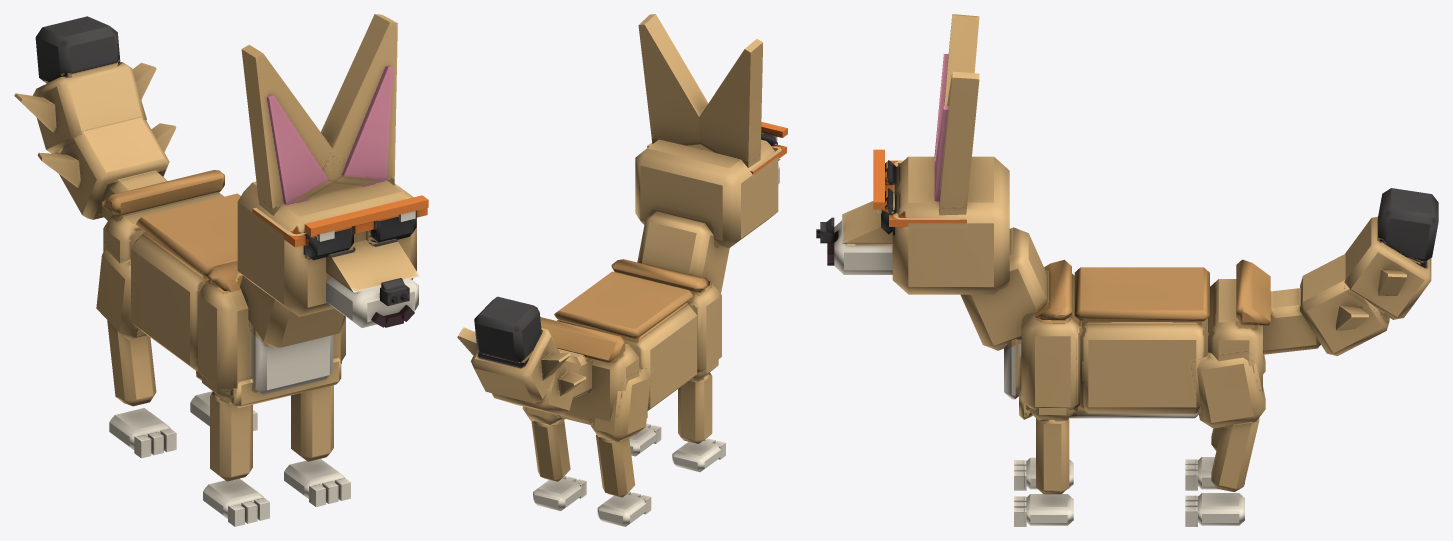
Rendered from FennecLunettes_Rig.fbx.
3 views of the same model, side by side, from view 1: azimuth 30°, elevation 25°; view 2: azimuth 150°, elevation 25°; view 3: azimuth 270°, elevation 25° (orthographic). The views are drawn at different scales.
Parts seen in each view (by area): view 1: Body, Head, Tail, EarR, EarL, LegBR, LegFR, LegFL, LegBL; view 2: Body, Head, Tail, EarL, LegBR, EarR, LegBL, LegFR, LegFL; view 3: Body, Head, Tail, LegBL, LegFL, EarL, EarR, LegBR, LegFR.
Boxes of the visible parts, x1,y1,x2,y2 form: Body: [102, 170, 345, 408]; Head: [237, 180, 428, 327]; Tail: [14, 16, 176, 220]; EarR: [241, 44, 345, 215]; EarL: [321, 14, 397, 185]; LegBR: [96, 250, 176, 458]; LegFR: [202, 375, 269, 526]; LegFL: [284, 361, 350, 506]; LegBL: [190, 371, 257, 430]; Body: [540, 211, 729, 424]; Head: [635, 122, 787, 248]; Tail: [457, 296, 594, 415]; EarL: [638, 14, 708, 145]; LegBR: [590, 366, 651, 526]; EarR: [699, 39, 762, 167]; LegBL: [522, 406, 586, 510]; LegFR: [672, 359, 725, 472]; LegFL: [629, 411, 661, 456]; Body: [960, 227, 1270, 419]; Head: [816, 149, 1009, 294]; Tail: [1263, 188, 1438, 356]; LegBL: [1185, 352, 1265, 526]; LegFL: [1014, 407, 1077, 526]; EarL: [934, 71, 979, 215]; EarR: [934, 14, 979, 161]; LegBR: [1185, 354, 1265, 490]; LegFR: [1014, 457, 1073, 490].
Size of the model in its own units: 1.79 by 6 by 7.39.
Materials: 1 (1 with a texture image).
